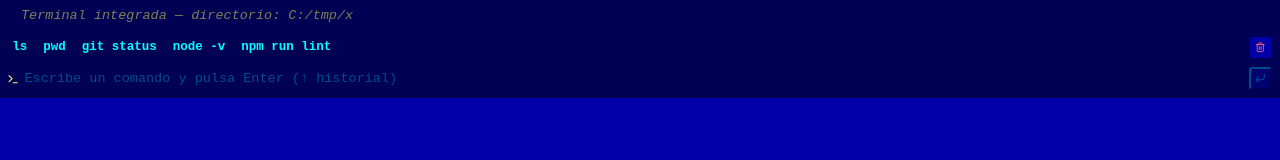
Test: TerminalView › un error del servidor se muestra en rojo
Type "rm -rf /" into the field with placeholder "Escribe un comando y pulsa Enter (↑ historial)" at (634,79), box x1=24 y1=70 x2=1244 y2=89
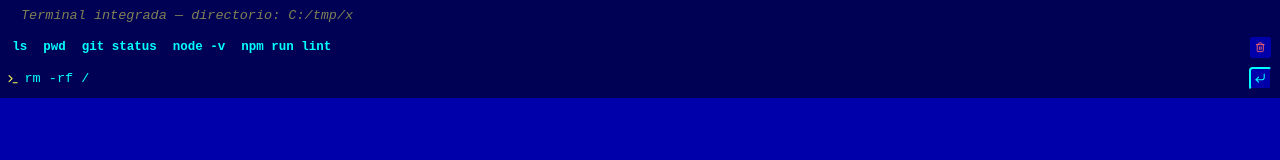
Press Enter in the field with placeholder "Escribe un comando y pulsa Enter (↑ historial)", box x1=24 y1=70 x2=1244 y2=89
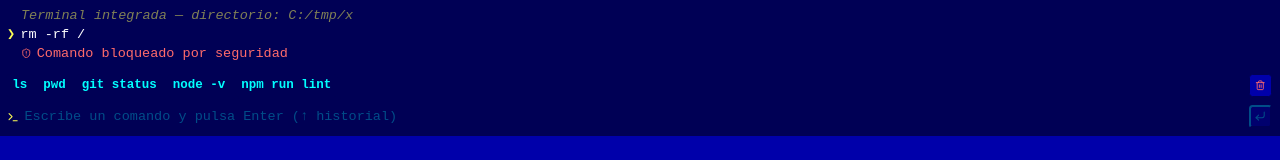
Result: the text "Comando bloqueado por seguridad" is shown at x1=37 y1=45 x2=288 y2=64
